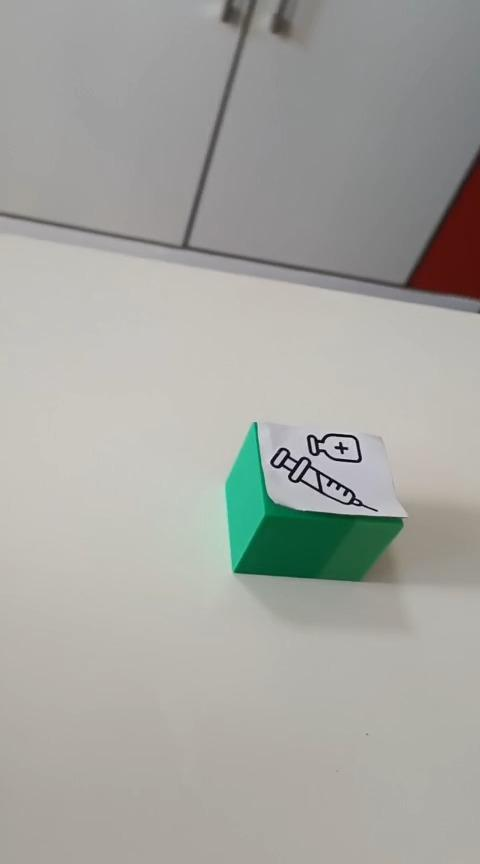antiseptic cream: (224, 419, 408, 582)
